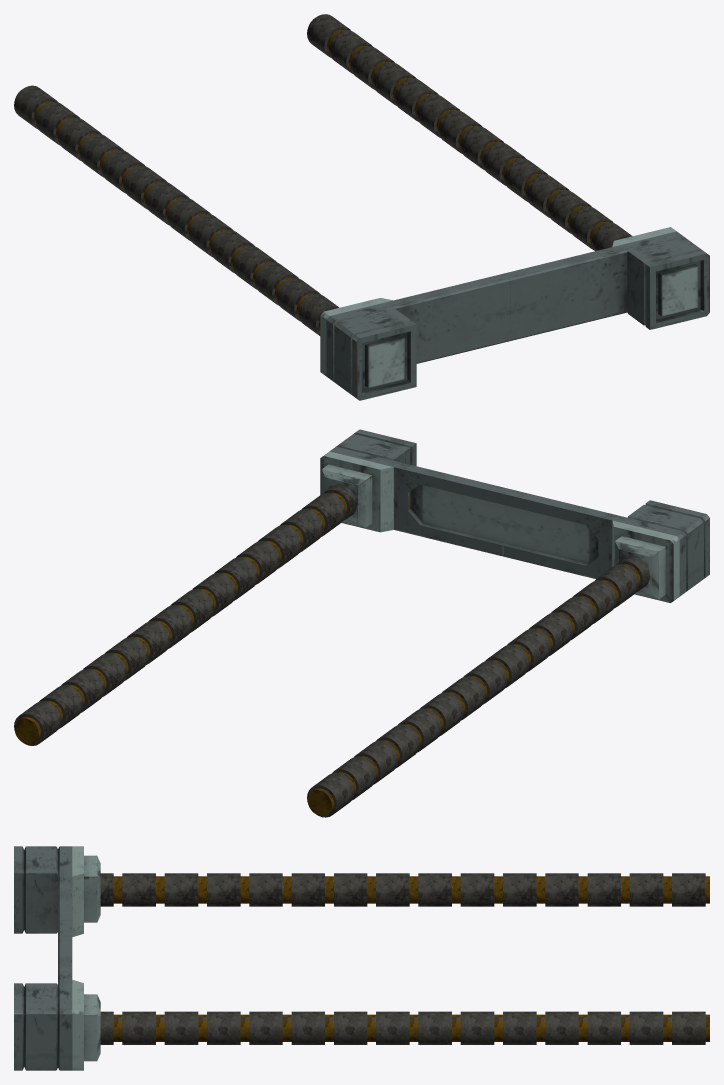
The model's file is Lv1_CargoBay_RunWayJoint.fbx.
The picture shows the model from 3 angles, top to bottom: view 1: azimuth 30°, elevation 25°; view 2: azimuth 150°, elevation 25°; view 3: azimuth 270°, elevation 25°; orthographic projection. The views are drawn at different scales.
Parts seen in each view (by area): view 1: Cylinder; view 2: Cylinder; view 3: Cylinder.
Boxes of the visible parts, <box> form: Cylinder: <box>14,14,709,400</box>; Cylinder: <box>14,429,709,817</box>; Cylinder: <box>14,846,709,1070</box>.
Size of the model in its own units: 2392 by 406 by 4224.
